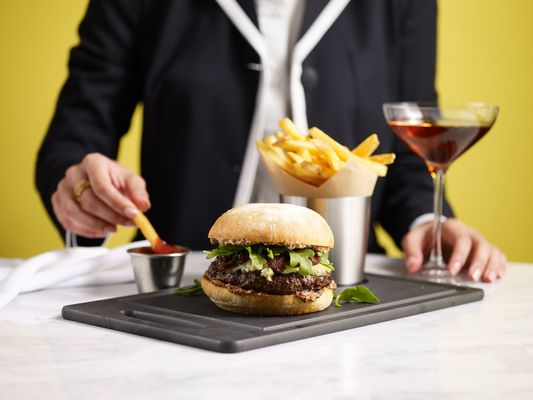pizza: (308, 194, 373, 287), (128, 245, 189, 295)
soup: (200, 202, 336, 315)
